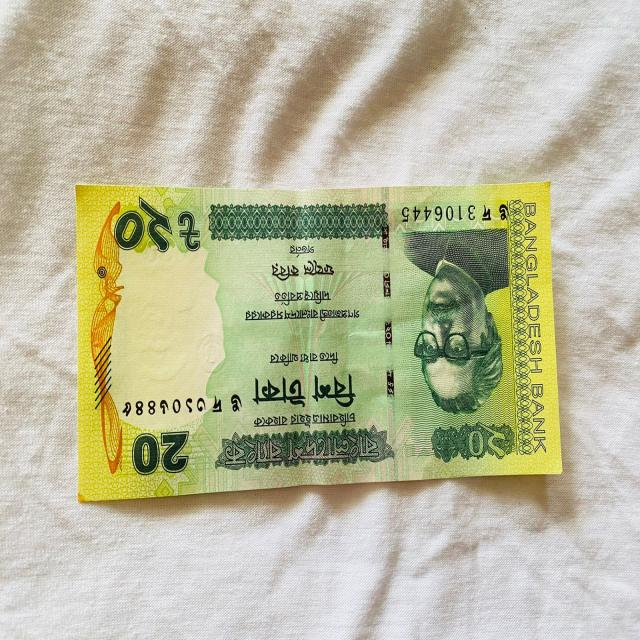Taka: (74, 171, 568, 499)
